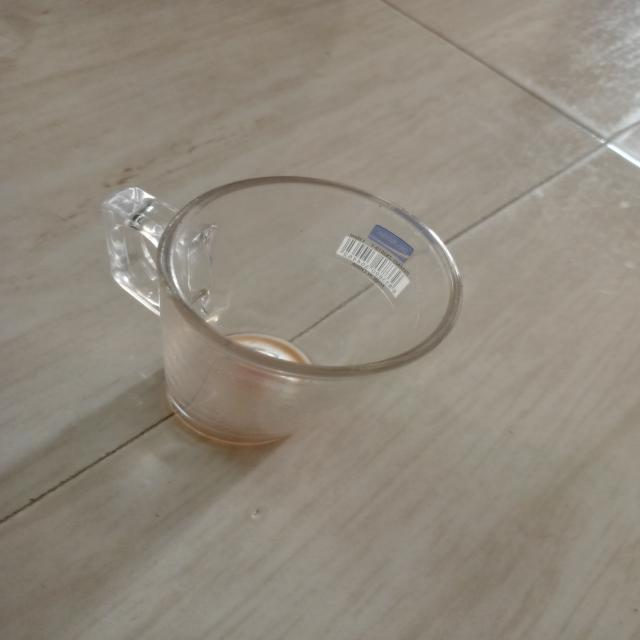glass-VX4N: (96, 174, 469, 451)
